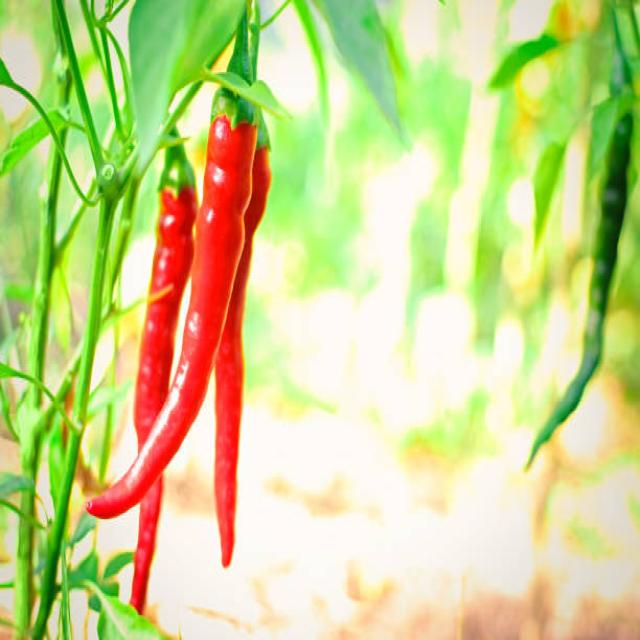Ripe: (87, 115, 255, 518), (214, 144, 270, 566), (134, 151, 196, 453)
